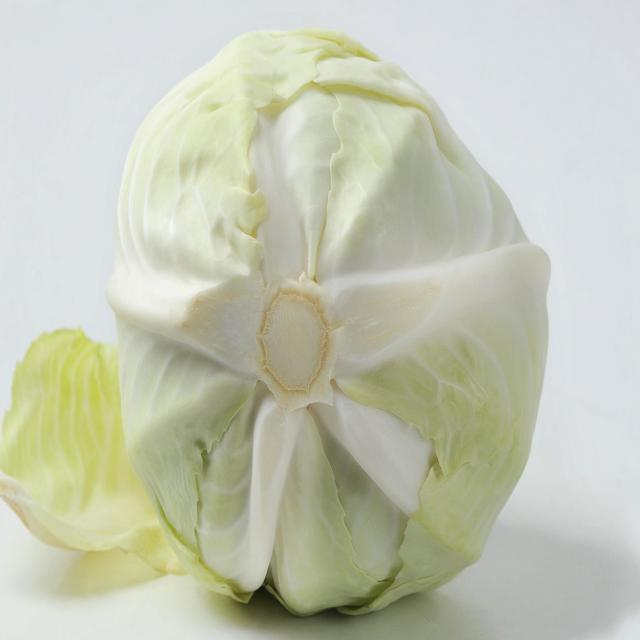cabbage: (99, 17, 553, 626)
